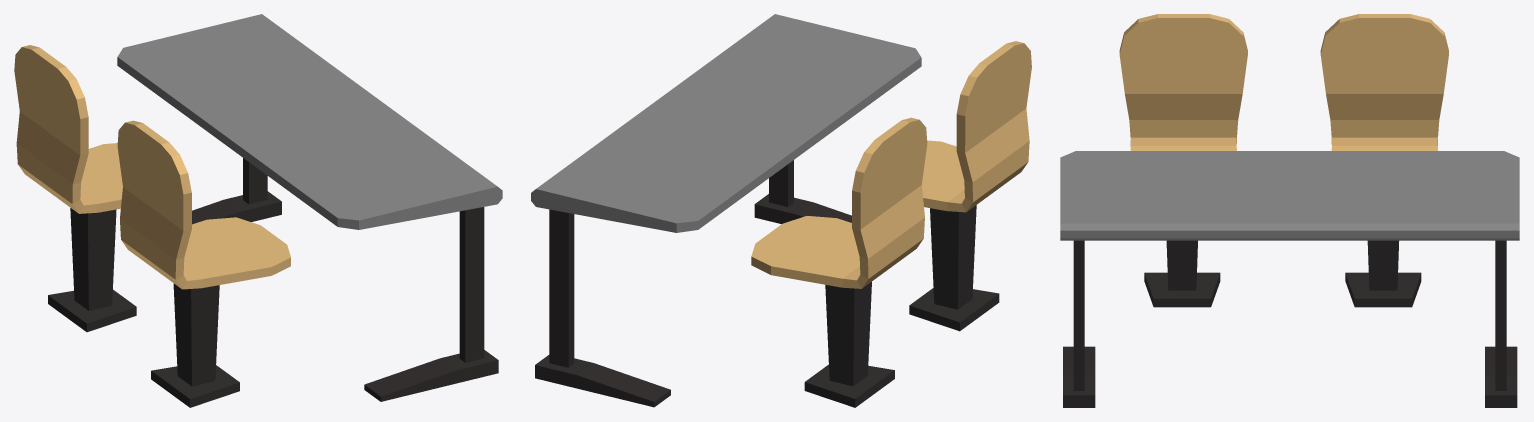
The model's file is DeskWithChair.fbx.
3 renders of one model, left to right at view 1: azimuth 30°, elevation 25°; view 2: azimuth 150°, elevation 25°; view 3: azimuth 270°, elevation 25°, orthographic. The views are drawn at different scales.
Visible parts, largest first — view 1: DeskWithChairs; view 2: DeskWithChairs; view 3: DeskWithChairs.
Part boxes in pixels (x1=…): DeskWithChairs: x1=14, y1=14, x2=502, y2=407; DeskWithChairs: x1=531, y1=14, x2=1031, y2=407; DeskWithChairs: x1=1060, y1=14, x2=1519, y2=407.
Size of the model in its own units: 1.04 by 0.901 by 1.46.
